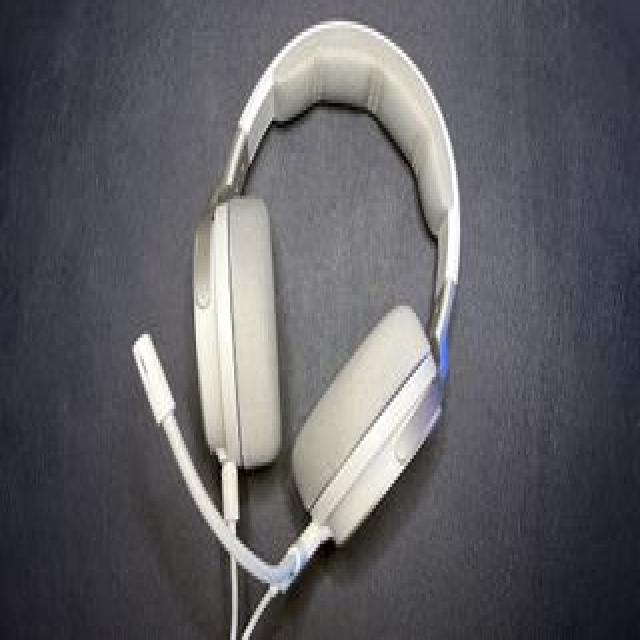headset: (193, 16, 486, 576)
